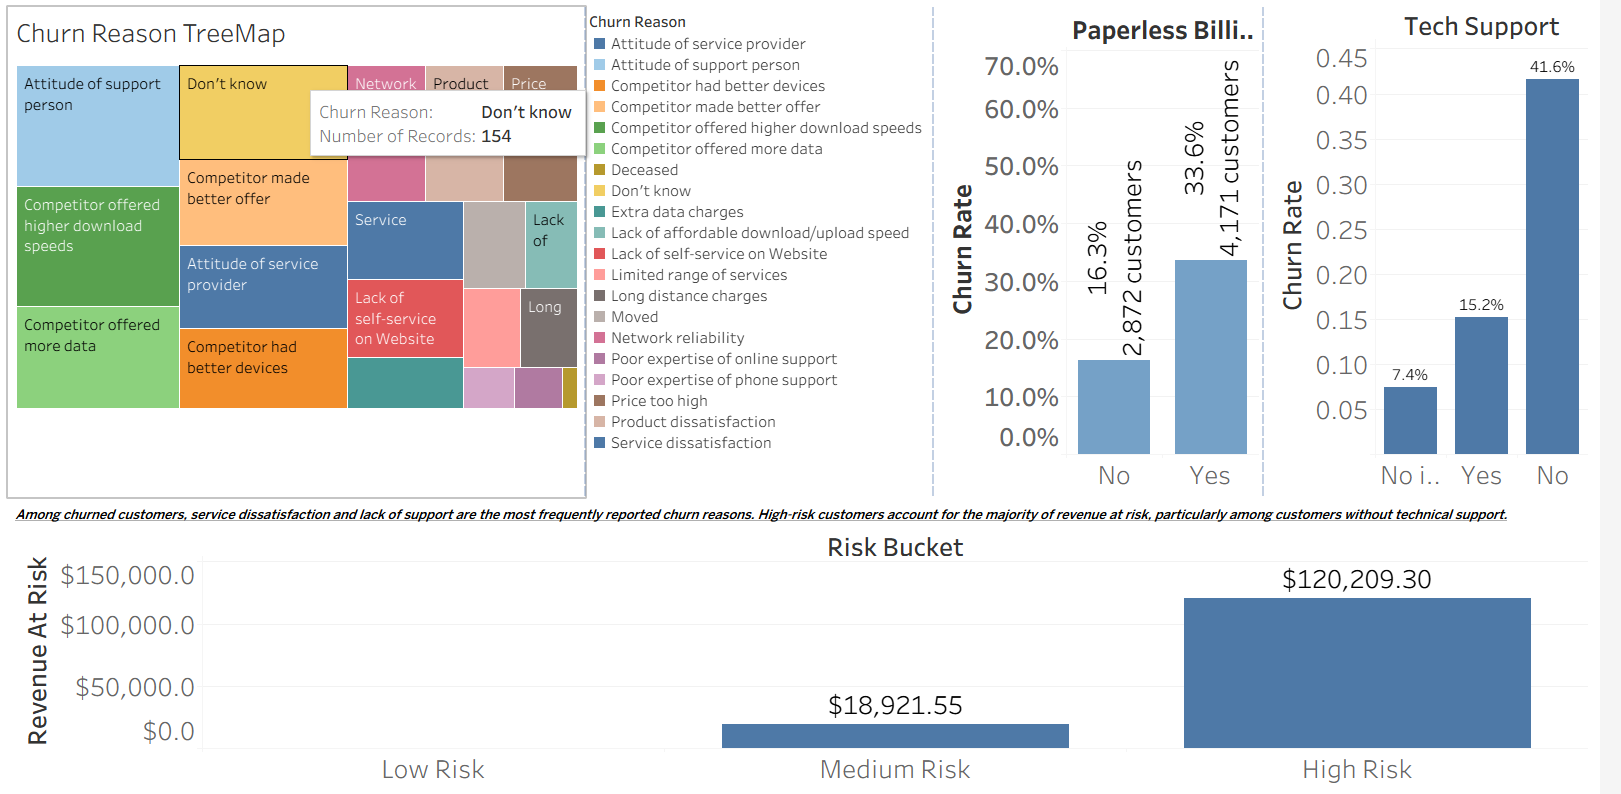

This screenshot's page, from the dashboard's own definition file:
{"tool":"tableau","page":{"name":"Churn Drivers & Segmentation","canvas":[1600,800],"ordinal":0},"visuals":[{"type":"worksheet","title":"Churn Reason TreeMap","mark":"Square","box":[8,8,577.4,490]},{"type":"legend","title":"Churn Reason TreeMap","param":"[federated.069xpdd0oa2ae711o6uby123b1ii].[none:Churn Reason:nk]","box":[585.4,8,347.6,490]},{"type":"worksheet","title":"Paperless Billing VS Churn","mark":"Automatic","rows":["ChurnFlag"],"cols":["Paperless Billing"],"box":[933,8,330,490]},{"type":"worksheet","title":"Tech Support VS Churn","mark":"Automatic","rows":["ChurnFlag"],"cols":["Tech Support"],"box":[1263,8,329,490]},{"type":"text","box":[8,498,1584,35]},{"type":"worksheet","title":"Revenue at Risk By Bucket","mark":"Automatic","rows":["RevenueAtRisk"],"cols":["RiskBucket"],"box":[8,533,1584,259]}]}

Visuals, with their boxes in screenshot pixels (x1, y1, x2, y2), scaled from the page's 1600x800 canvas onto the 1621x794 screenshot:
"Churn Reason TreeMap" worksheet (Square marks): bbox(8, 8, 593, 494)
"Churn Reason TreeMap" legend: bbox(593, 8, 945, 494)
"Paperless Billing VS Churn" worksheet: bbox(945, 8, 1280, 494)
"Tech Support VS Churn" worksheet: bbox(1280, 8, 1613, 494)
text: bbox(8, 494, 1613, 529)
"Revenue at Risk By Bucket" worksheet: bbox(8, 529, 1613, 786)
